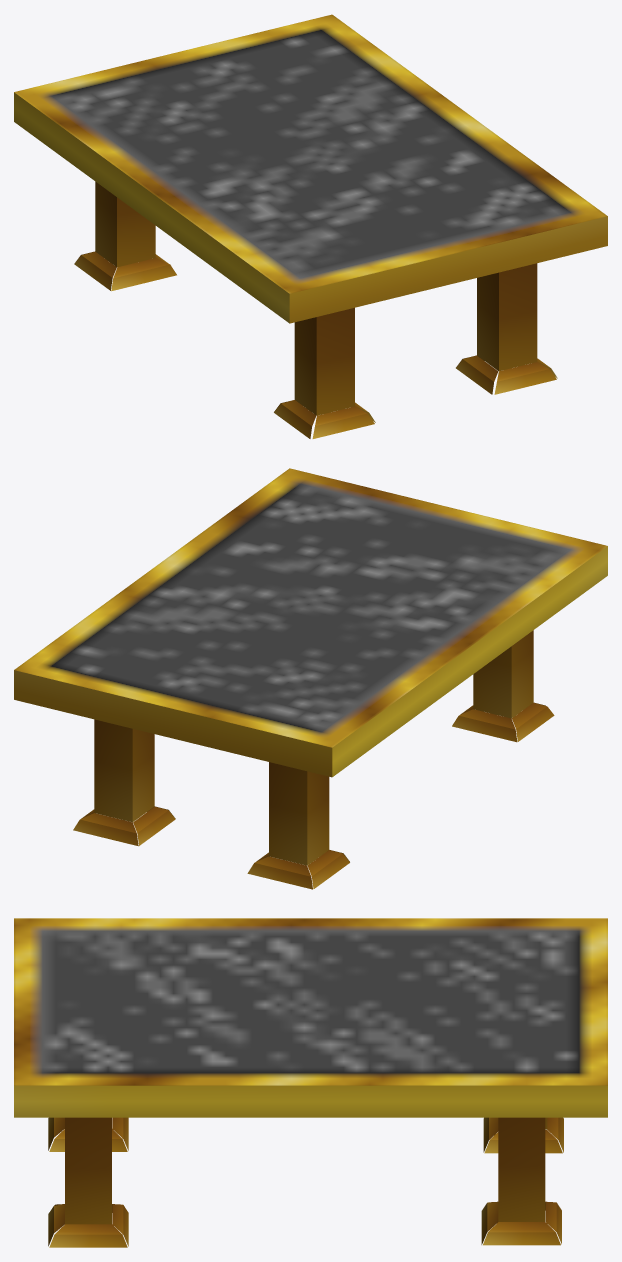
The model's file is table_1002x00.obj.
The picture shows the model from 3 angles, top to bottom: view 1: azimuth 30°, elevation 25°; view 2: azimuth 150°, elevation 25°; view 3: azimuth 270°, elevation 25°; orthographic projection. The views are drawn at different scales.
Parts seen in each view (by area): view 1: Table_1002x0; view 2: Table_1002x0; view 3: Table_1002x0.
Part boxes in pixels (<box>): Table_1002x0: <box>14,14,607,438</box>; Table_1002x0: <box>14,468,607,889</box>; Table_1002x0: <box>14,918,607,1247</box>.
Bounding box in the file's own units: 4 × 2 × 6.
